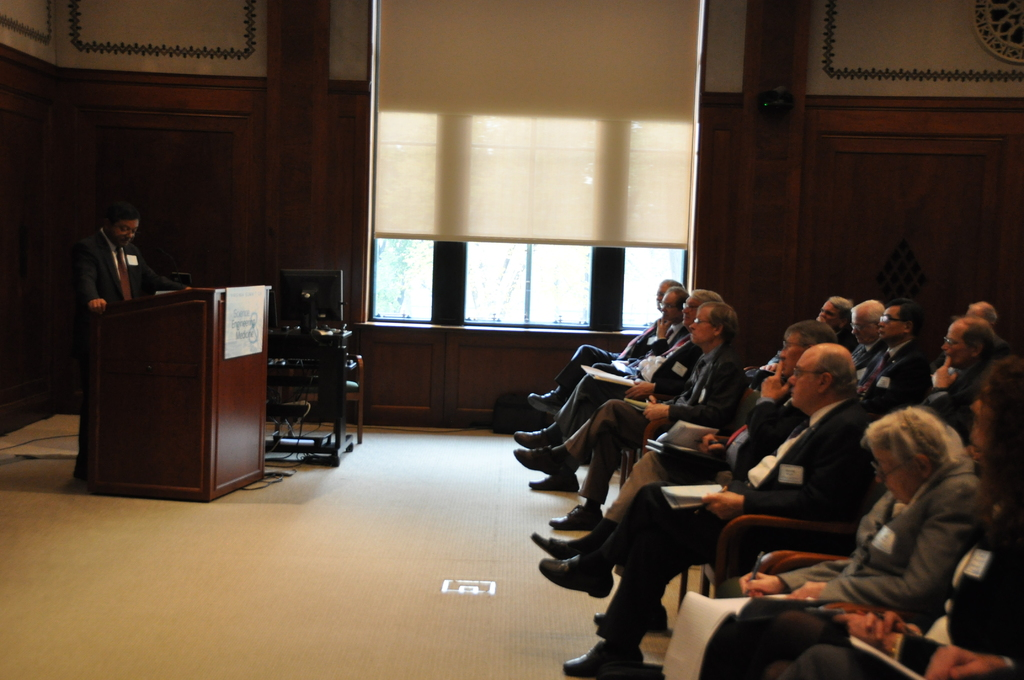Human_hand: (927, 642, 1000, 679), (835, 614, 894, 647), (868, 613, 917, 645), (701, 491, 744, 525), (760, 361, 790, 401), (739, 571, 784, 597), (931, 357, 959, 391), (785, 581, 828, 600), (697, 433, 728, 455), (625, 378, 653, 400), (643, 404, 668, 424), (655, 319, 671, 341), (90, 298, 107, 316)
